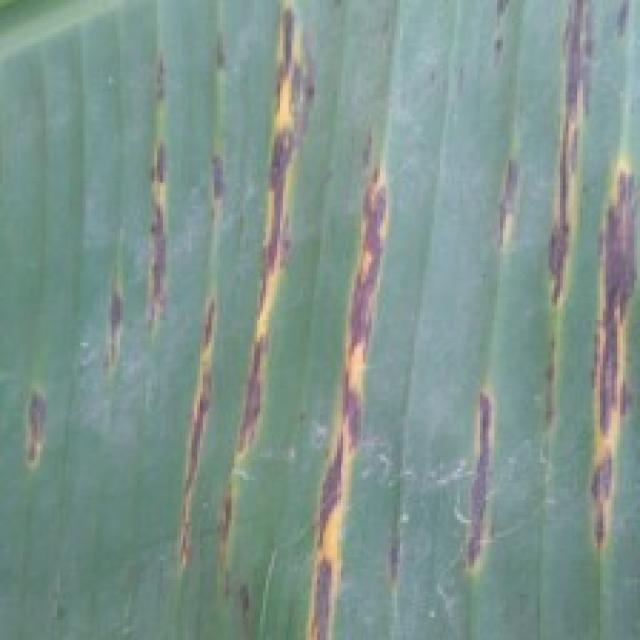Early_leaf_spot: (471, 0, 639, 571), (303, 108, 431, 640), (217, 0, 327, 573), (157, 113, 251, 585), (81, 24, 186, 378), (431, 343, 519, 612), (5, 351, 99, 505)
